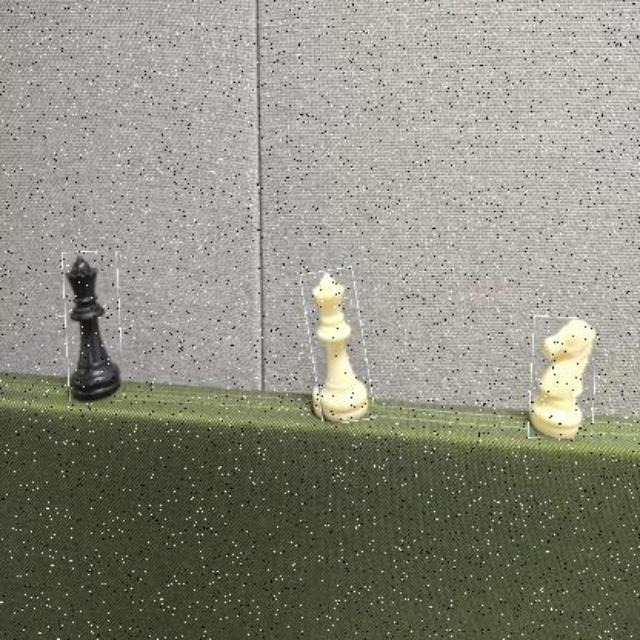black-queen: (64, 253, 122, 403)
white-knight: (529, 317, 595, 439)
white-queen: (306, 267, 369, 422)
